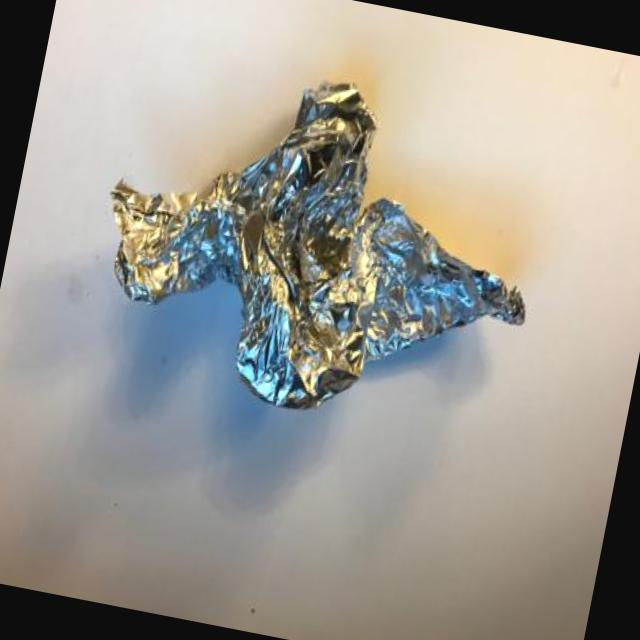kim_loai: (111, 85, 525, 410)
